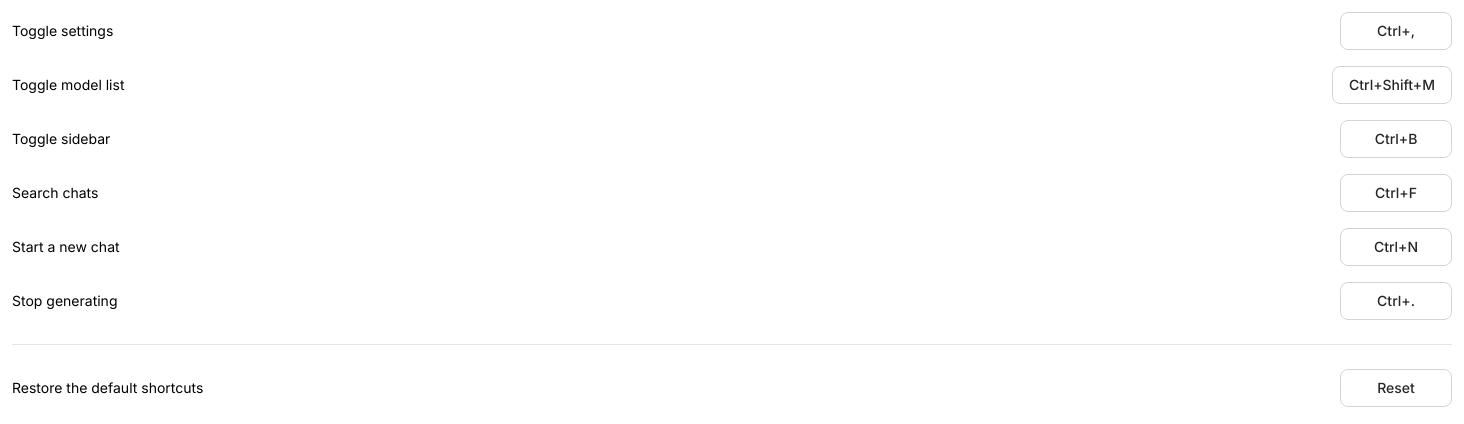
ShortcutsSettings › surfaces a shortcut that could not be saved
Click the button named "Start a new chat".
click(1396, 247)  # box [1340,228,1452,266]
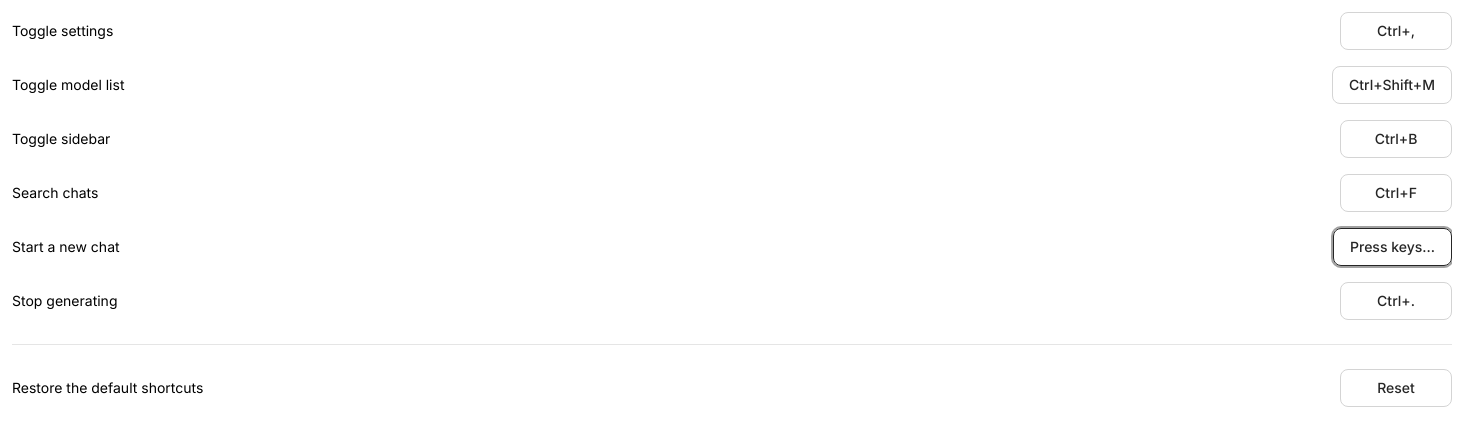
Type keys "{Control>}j{/Control}"
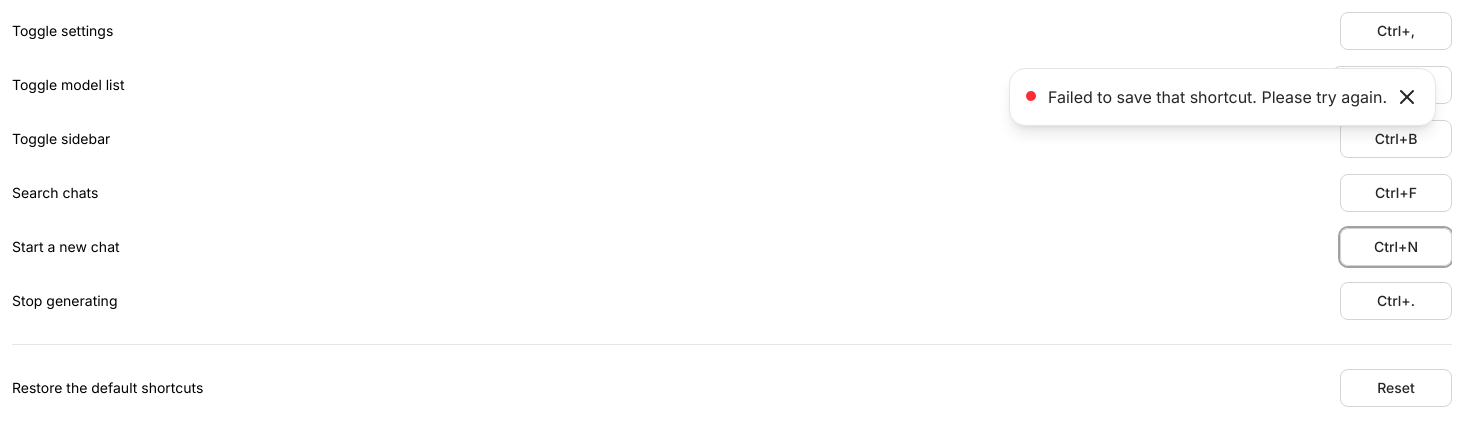
Expected: the message reads "Failed to save that shortcut. Please try again.", [1048,87,1387,107]
